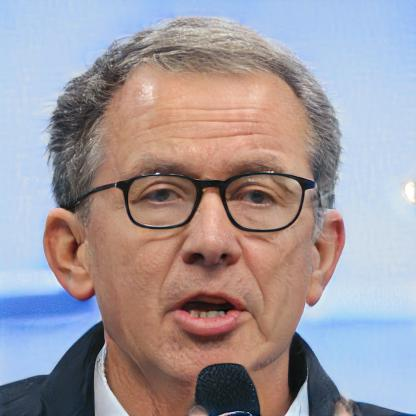glasses: (105, 168, 313, 235)
